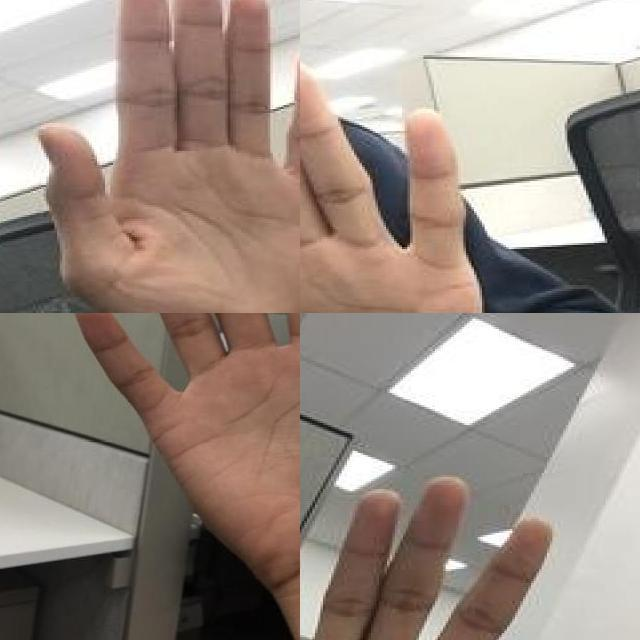hand: (32, 0, 300, 313), (69, 313, 300, 577), (300, 39, 509, 313), (300, 475, 619, 640)
